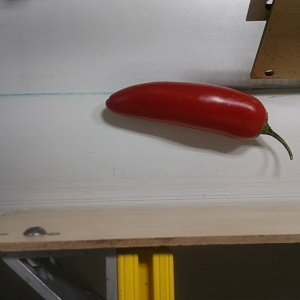Cut Point: (244, 100, 275, 142)
